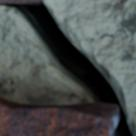brick: (0, 98, 118, 135), (0, 0, 36, 2)
crack: (0, 0, 134, 135)
